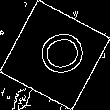O_W: (25, 27, 85, 83)
